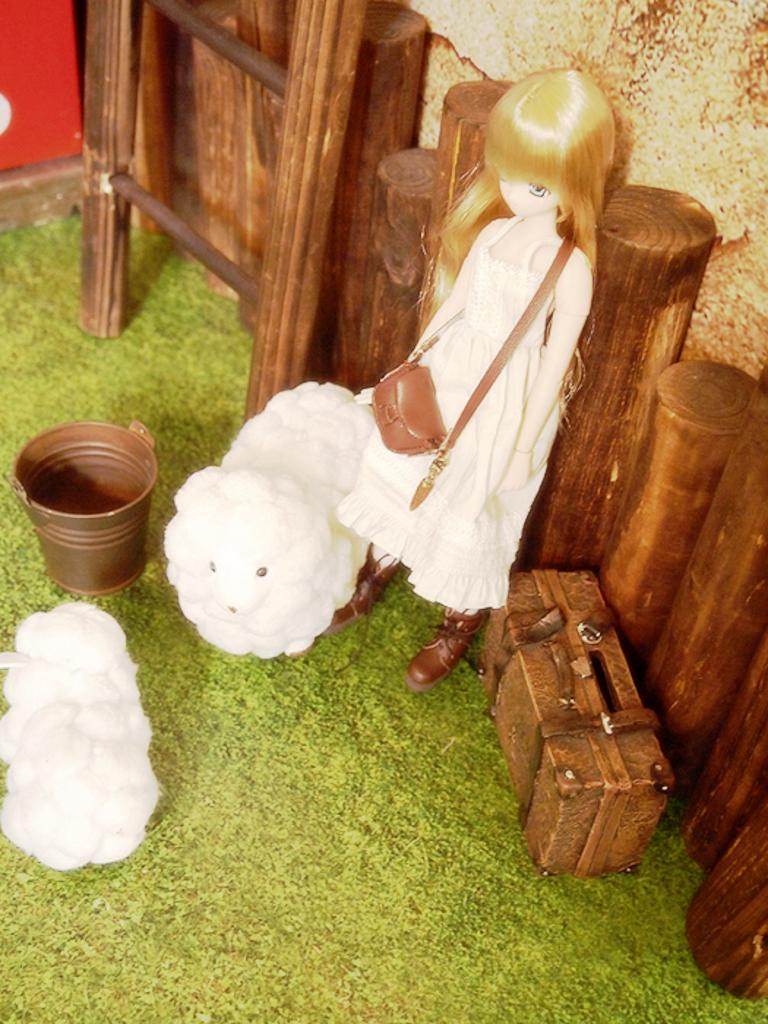Sheep: (162, 379, 376, 663), (0, 603, 165, 872)
